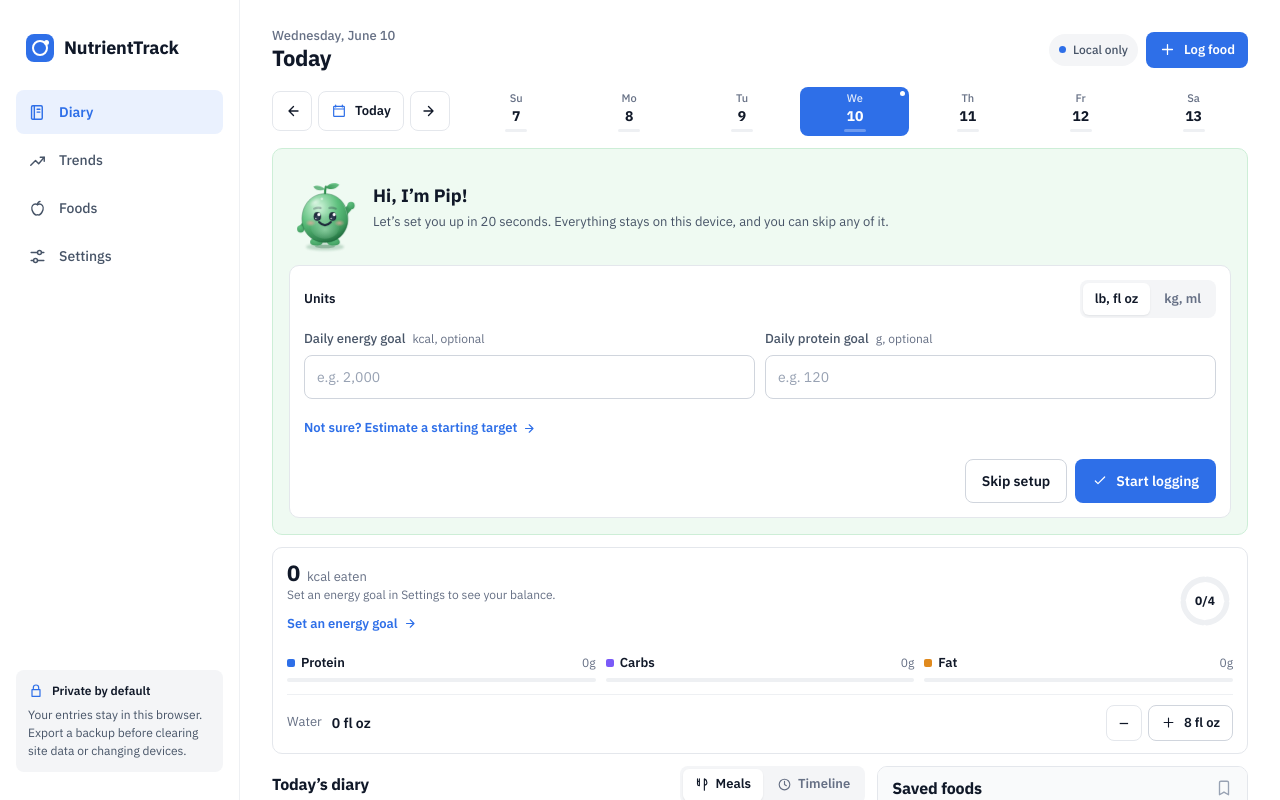
Test: catalog quick amounts › offers 50/100/150/200 g with 100 g pressed by default
Click the button "Log food": (1197, 50) left=1146, top=32, right=1248, bottom=68
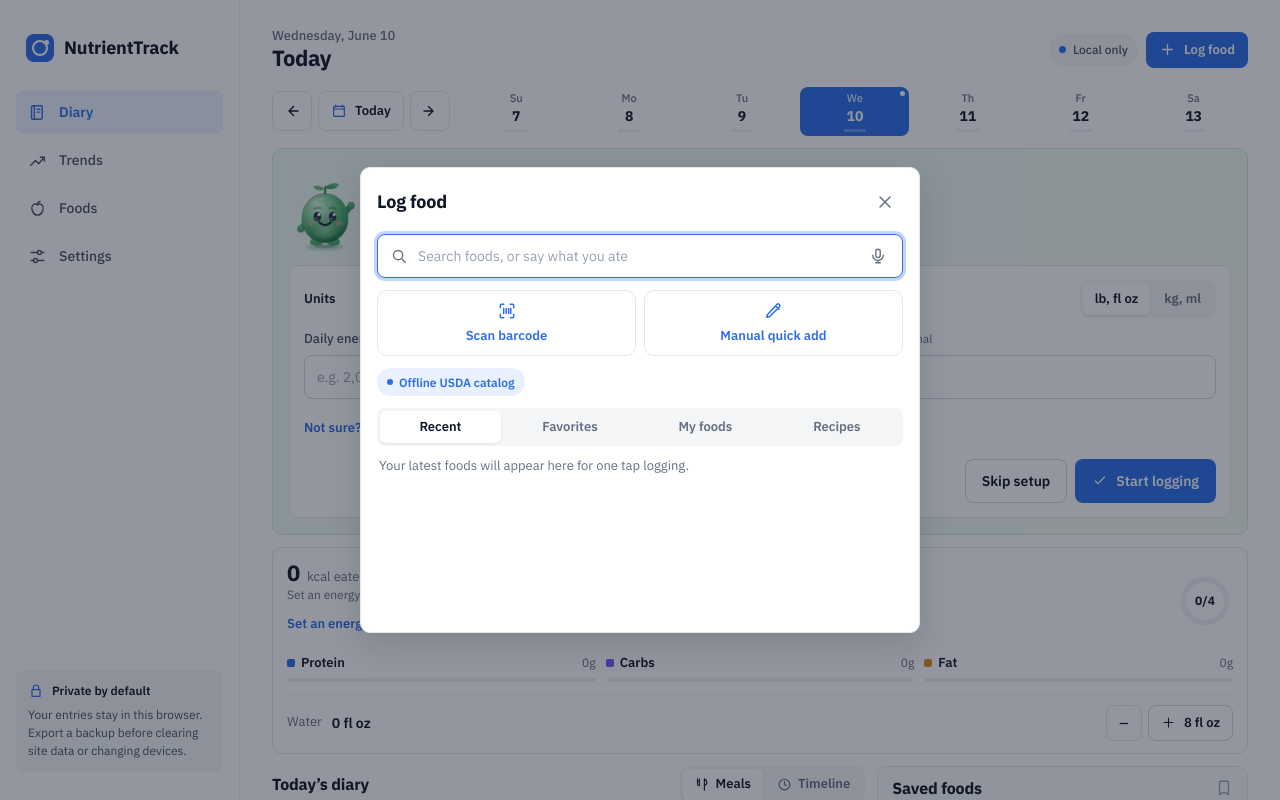
In the field with placeholder "Search foods, or say what you ate": (634, 256) left=418, top=235, right=850, bottom=277, type "oats"
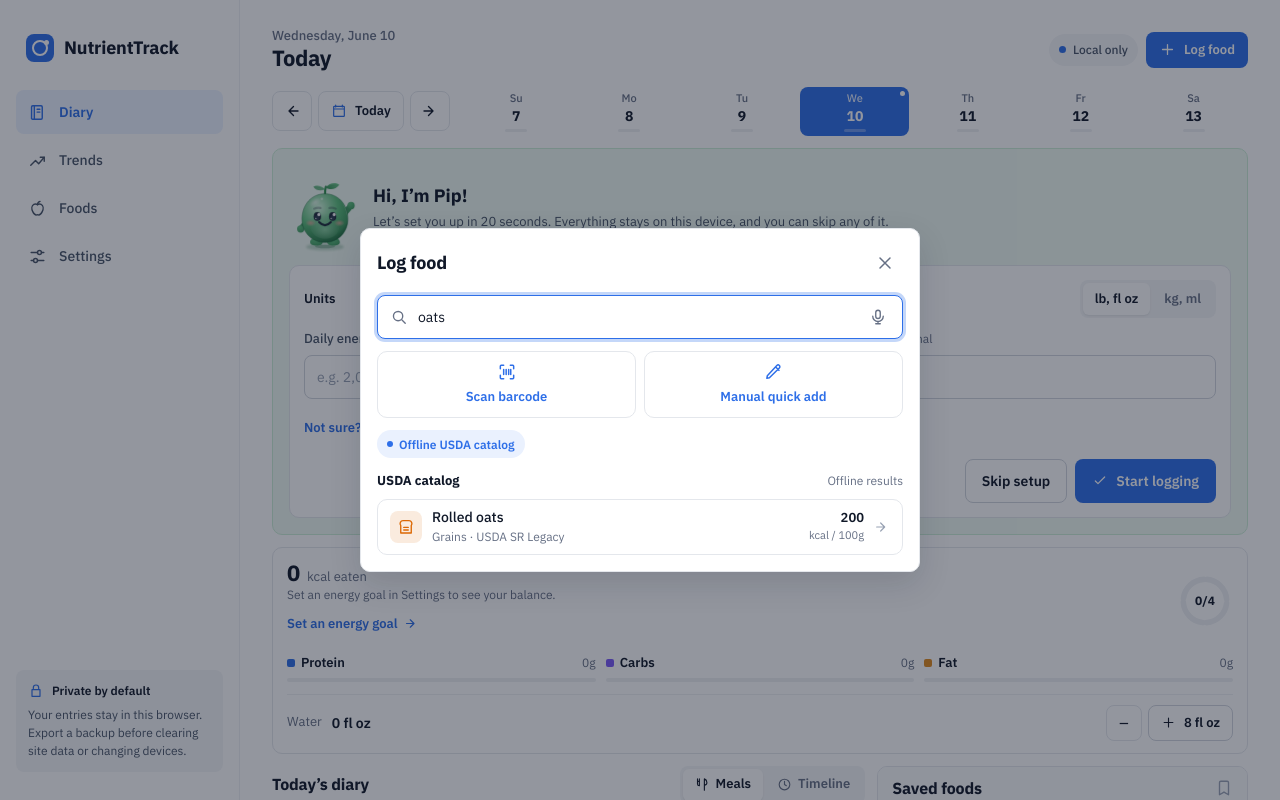
Click the button "Rolled oats Grains · USDA SR Legacy 200 kcal / 100g": (406, 527) left=378, top=500, right=902, bottom=554
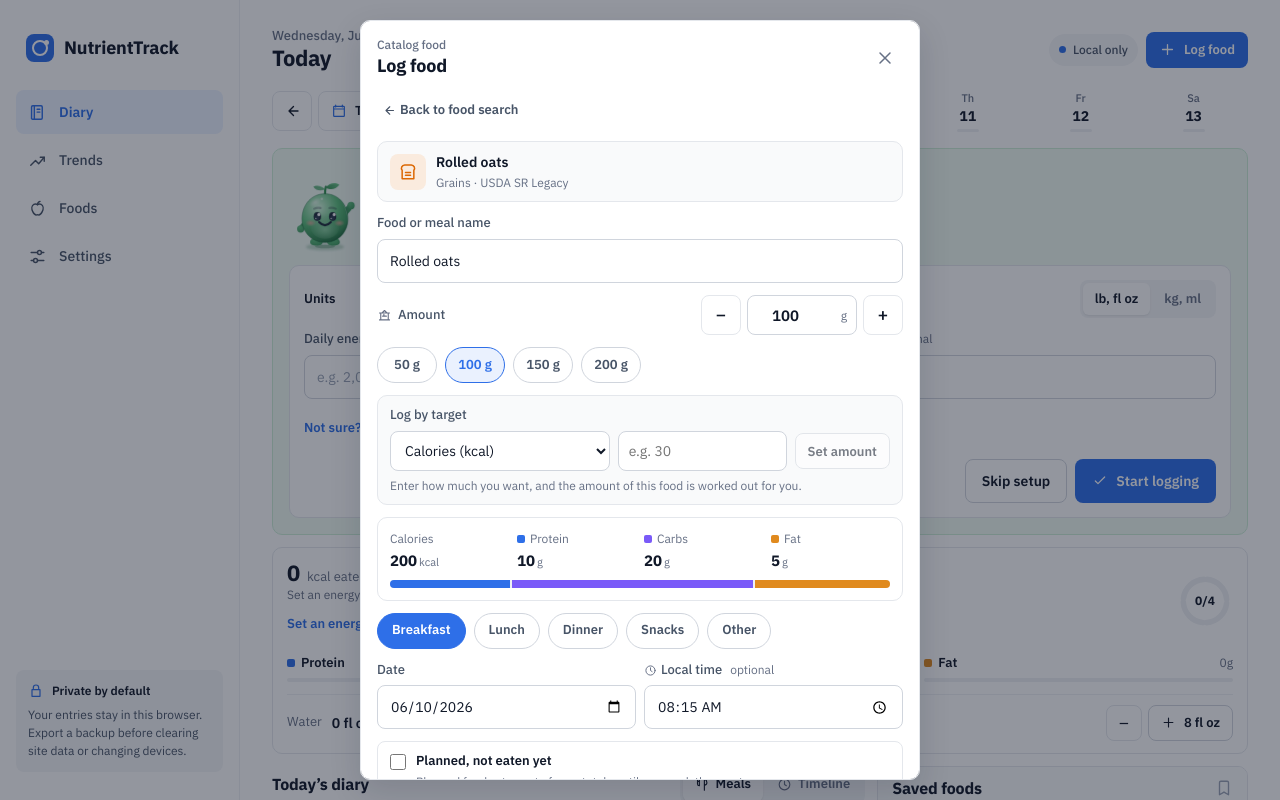
Expected: the number field labelled "Amount" holds "100", left=747, top=295, right=857, bottom=335
